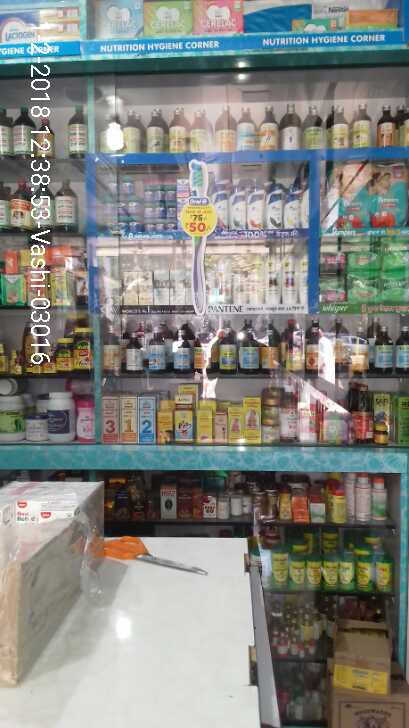beauty: (264, 255, 282, 303), (281, 254, 296, 304), (247, 193, 266, 231), (266, 193, 285, 230), (168, 269, 185, 306), (230, 194, 246, 231), (153, 269, 168, 306), (124, 271, 139, 306), (139, 272, 153, 306)
pharmacy: (337, 164, 369, 228), (370, 164, 401, 226), (345, 271, 380, 301), (347, 252, 383, 271), (133, 185, 155, 208), (120, 177, 130, 205), (153, 184, 165, 205), (165, 183, 177, 204), (164, 218, 176, 235), (135, 209, 152, 219), (153, 219, 163, 235), (166, 204, 176, 219), (155, 204, 165, 219), (143, 218, 153, 233)
